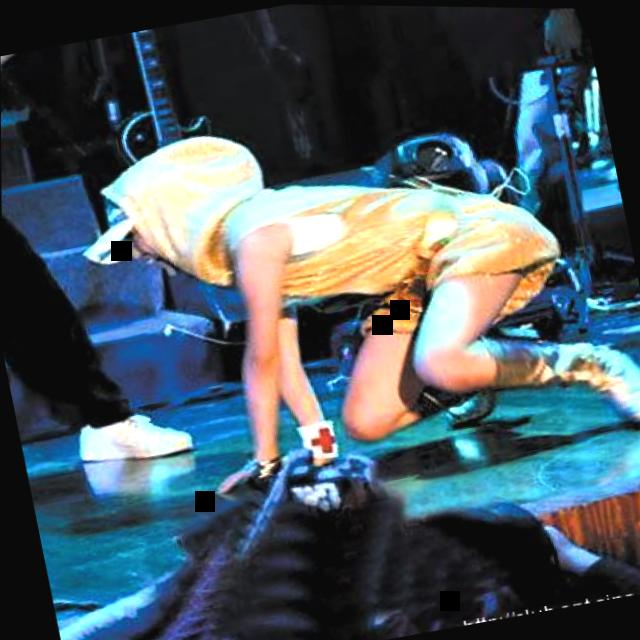Fall-Detected: (30, 377, 640, 640)
